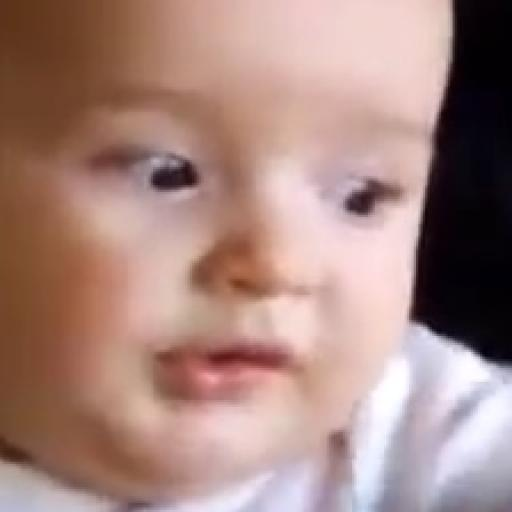Autism: (9, 3, 463, 474)
